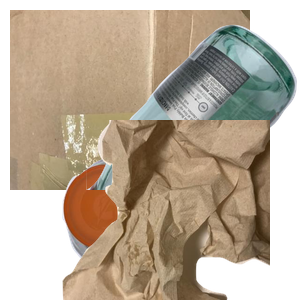cardboard: (10, 10, 250, 190)
glass: (86, 22, 300, 202)
plastic: (60, 152, 237, 300)
trash: (60, 120, 300, 300)
